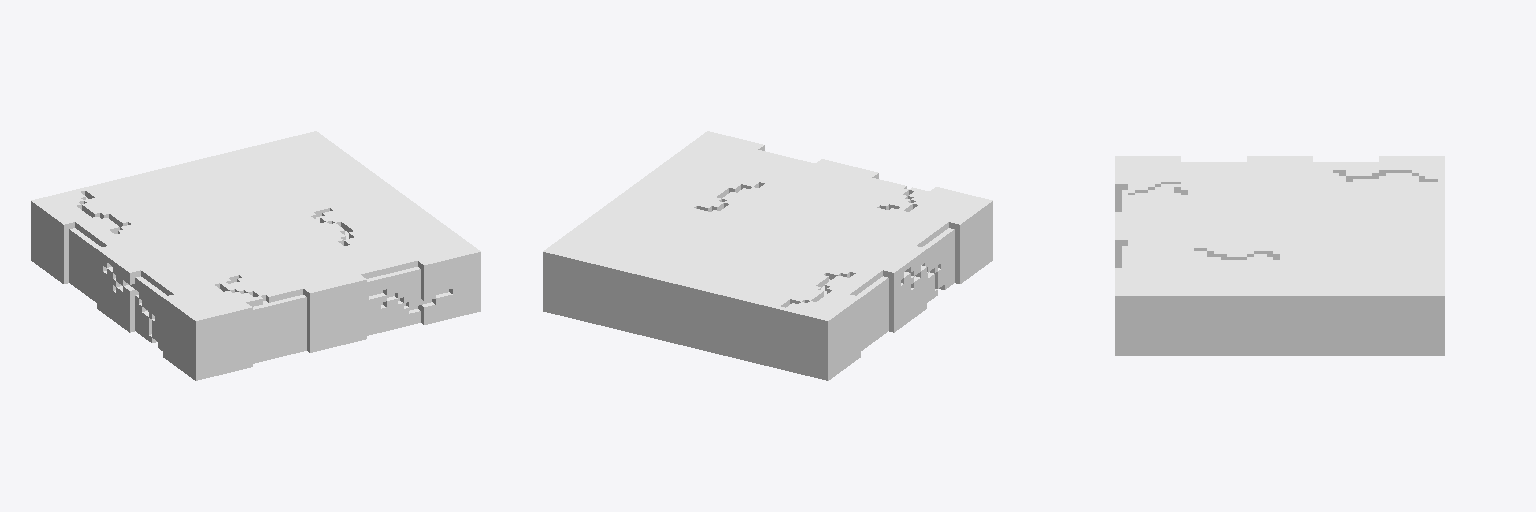
The model's file is Terrain2.obj.
The picture shows the model from 3 angles: view 1: azimuth 30°, elevation 25°; view 2: azimuth 150°, elevation 25°; view 3: azimuth 270°, elevation 25°; orthographic projection.
Parts seen in each view (by area): view 1: object 1; view 2: object 1; view 3: object 1.
Part boxes in pixels (x1,y1,x2,y2): object 1: (31, 131, 480, 380); object 1: (543, 131, 992, 380); object 1: (1115, 156, 1444, 355).
Bounding box in the file's own units: 5 × 1 × 5.